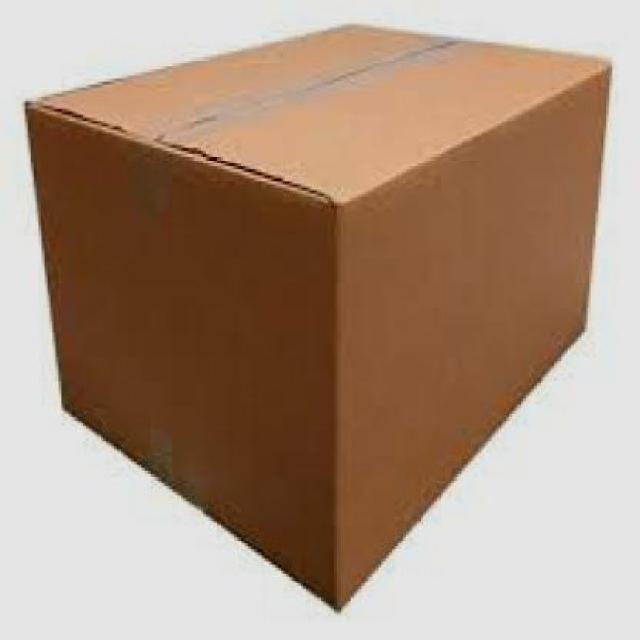-: (23, 19, 602, 610)
